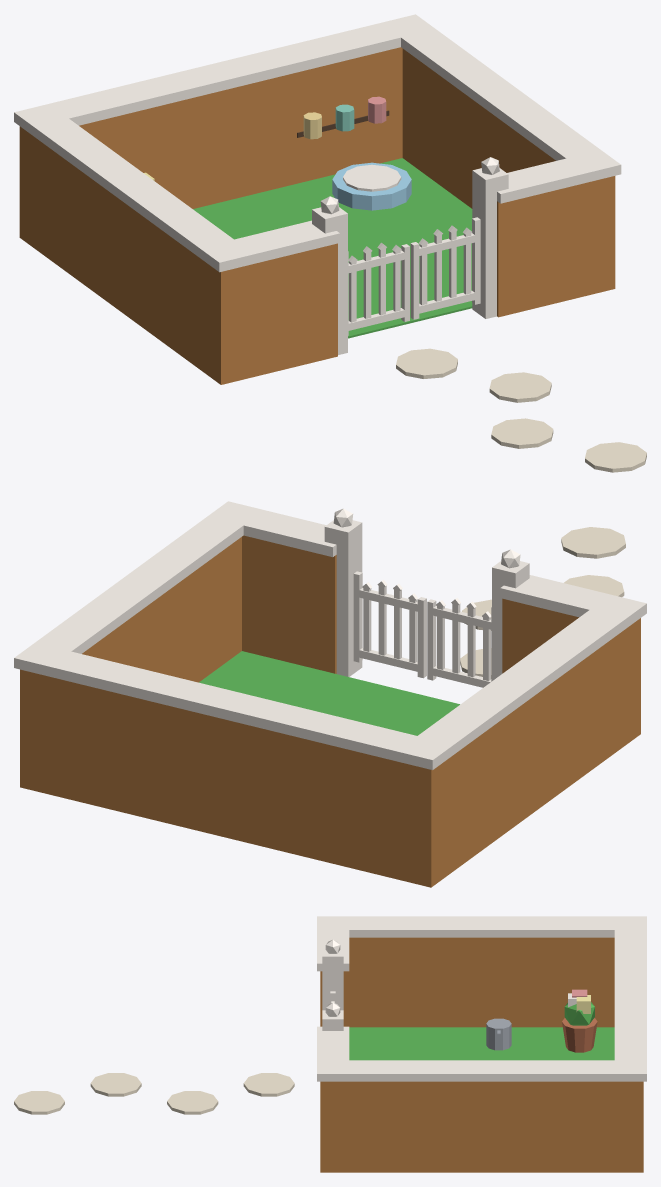
Rendered from CatCafe_Nook_Neighbourhood.glb.
3 views of the same model, one above another, from view 1: azimuth 30°, elevation 25°; view 2: azimuth 150°, elevation 25°; view 3: azimuth 270°, elevation 25° (orthographic). The views are drawn at different scales.
Parts seen in each view (by area): view 1: CatCafe_Nook_Neighbourhood, CatCafe_Nook_Neighbourhood_Decor, CatCafe_Nook_Neighbourhood_GateL, CatCafe_Nook_Neighbourhood_GateR; view 2: CatCafe_Nook_Neighbourhood, CatCafe_Nook_Neighbourhood_Decor, CatCafe_Nook_Neighbourhood_GateL, CatCafe_Nook_Neighbourhood_GateR; view 3: CatCafe_Nook_Neighbourhood, CatCafe_Nook_Neighbourhood_Decor.
Boxes of the visible parts, left/top/right/bottom form: CatCafe_Nook_Neighbourhood: left=14, top=14, right=621, bottom=384; CatCafe_Nook_Neighbourhood_Decor: left=144, top=158, right=646, bottom=472; CatCafe_Nook_Neighbourhood_GateL: left=410, top=217, right=480, bottom=319; CatCafe_Nook_Neighbourhood_GateR: left=348, top=242, right=409, bottom=335; CatCafe_Nook_Neighbourhood: left=14, top=501, right=646, bottom=887; CatCafe_Nook_Neighbourhood_Decor: left=199, top=527, right=625, bottom=735; CatCafe_Nook_Neighbourhood_GateL: left=353, top=571, right=426, bottom=678; CatCafe_Nook_Neighbourhood_GateR: left=427, top=597, right=491, bottom=687; CatCafe_Nook_Neighbourhood: left=317, top=916, right=646, bottom=1172; CatCafe_Nook_Neighbourhood_Decor: left=14, top=989, right=614, bottom=1114.
Size of the model in its own units: 8.76 by 3.22 by 14.88.
1 material, 1 textured.
